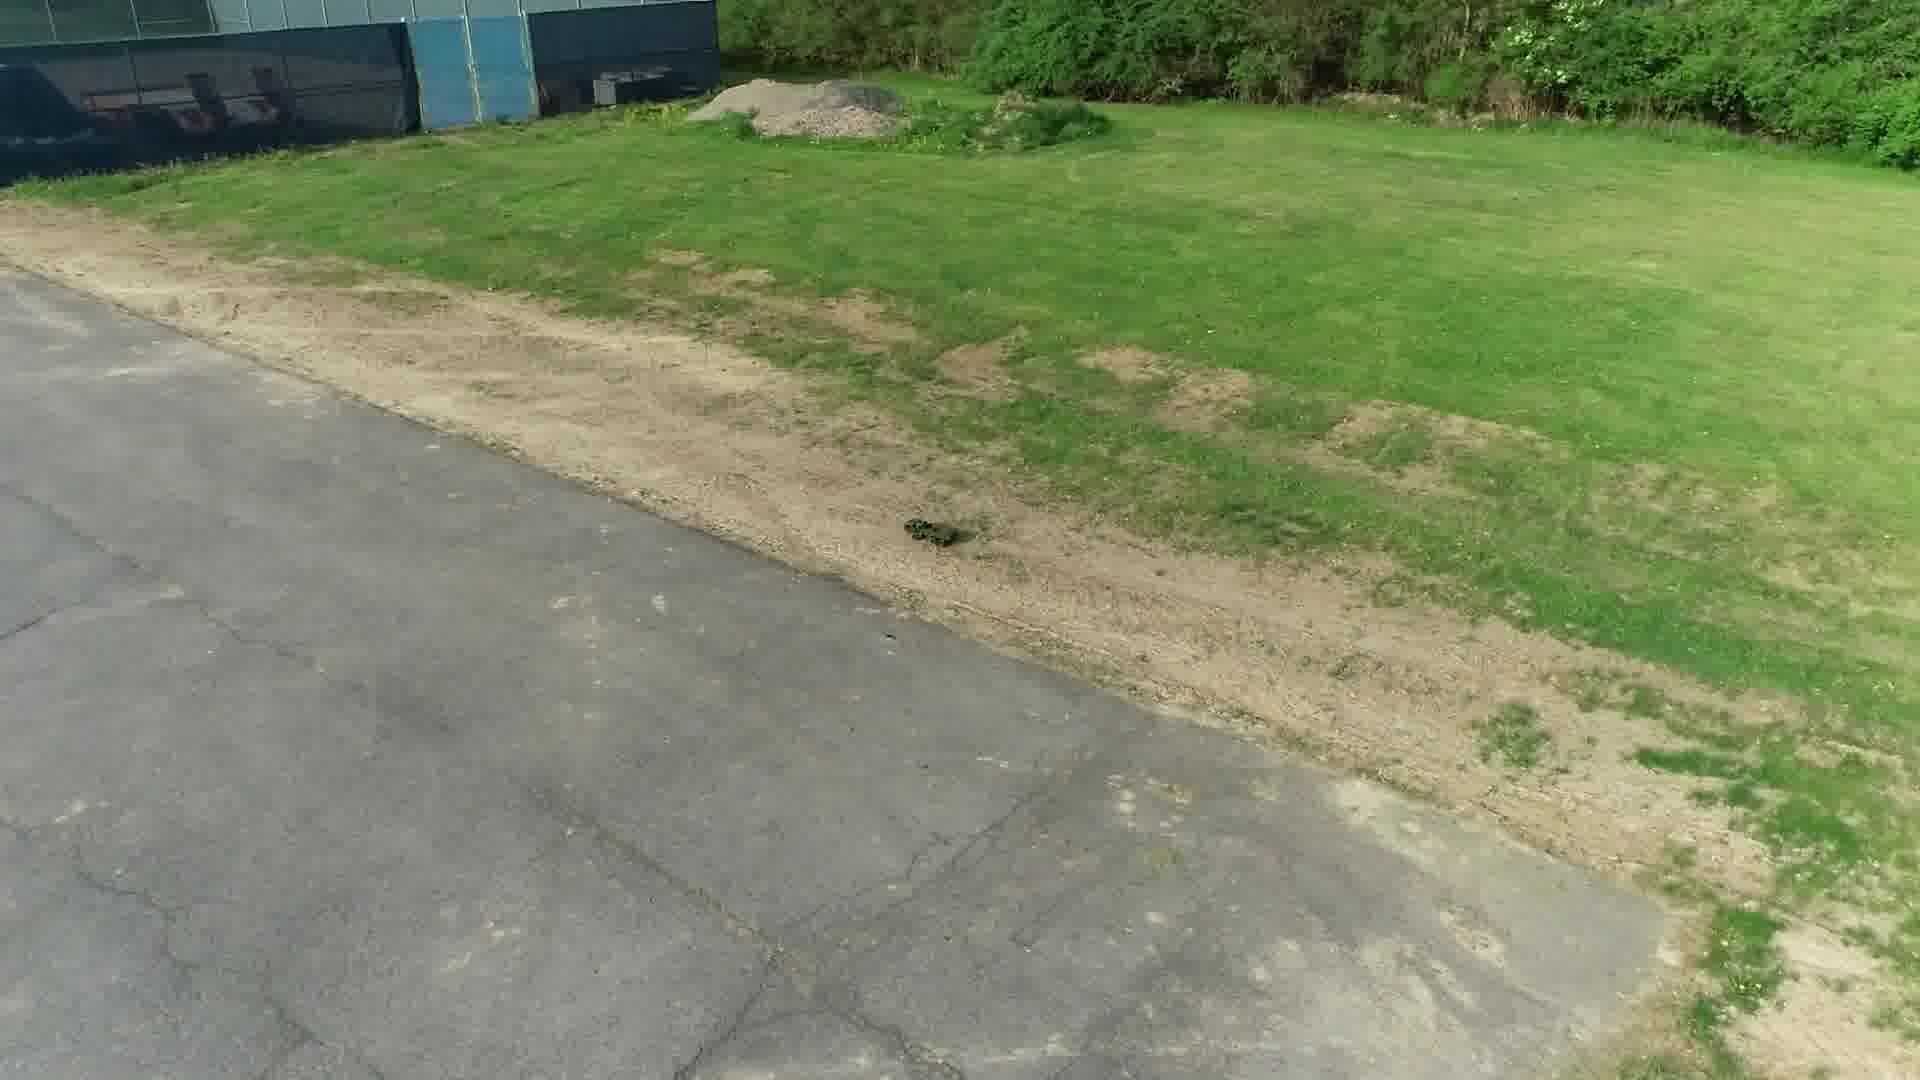transporter9: (903, 517, 961, 549)
